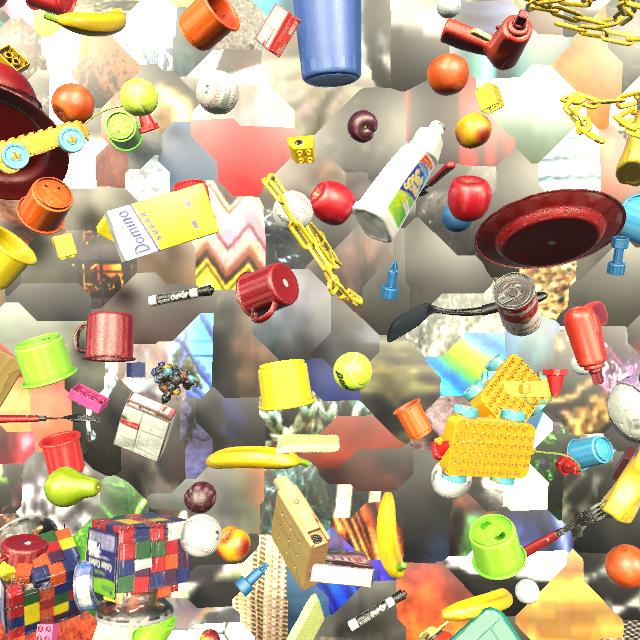ycb_004_sugar_box: (104, 183, 219, 262)
ycb_005_tomato_soup_can: (492, 272, 542, 336)
ycb_006_mustard_bottle: (600, 444, 640, 524), (615, 97, 640, 187)
ycb_007_tuna_fish_can: (73, 560, 104, 612)
ycb_008_pudding_box: (113, 391, 178, 462), (308, 548, 374, 588)
ycb_009_gelatin_box: (255, 4, 301, 58)
ycb_011_banana: (377, 492, 408, 578), (206, 446, 310, 469), (441, 588, 513, 621), (44, 9, 127, 37)
ycb_013_apple: (309, 181, 355, 226), (448, 175, 492, 222)
ycb_015_peach: (455, 113, 492, 149), (216, 526, 251, 562)
ycb_016_pear: (44, 467, 101, 507)
ycb_017_orange: (427, 53, 469, 96), (51, 83, 94, 124), (605, 544, 640, 588), (0, 0, 8, 8)
ycb_018_plum: (184, 481, 217, 514), (347, 110, 378, 143)
